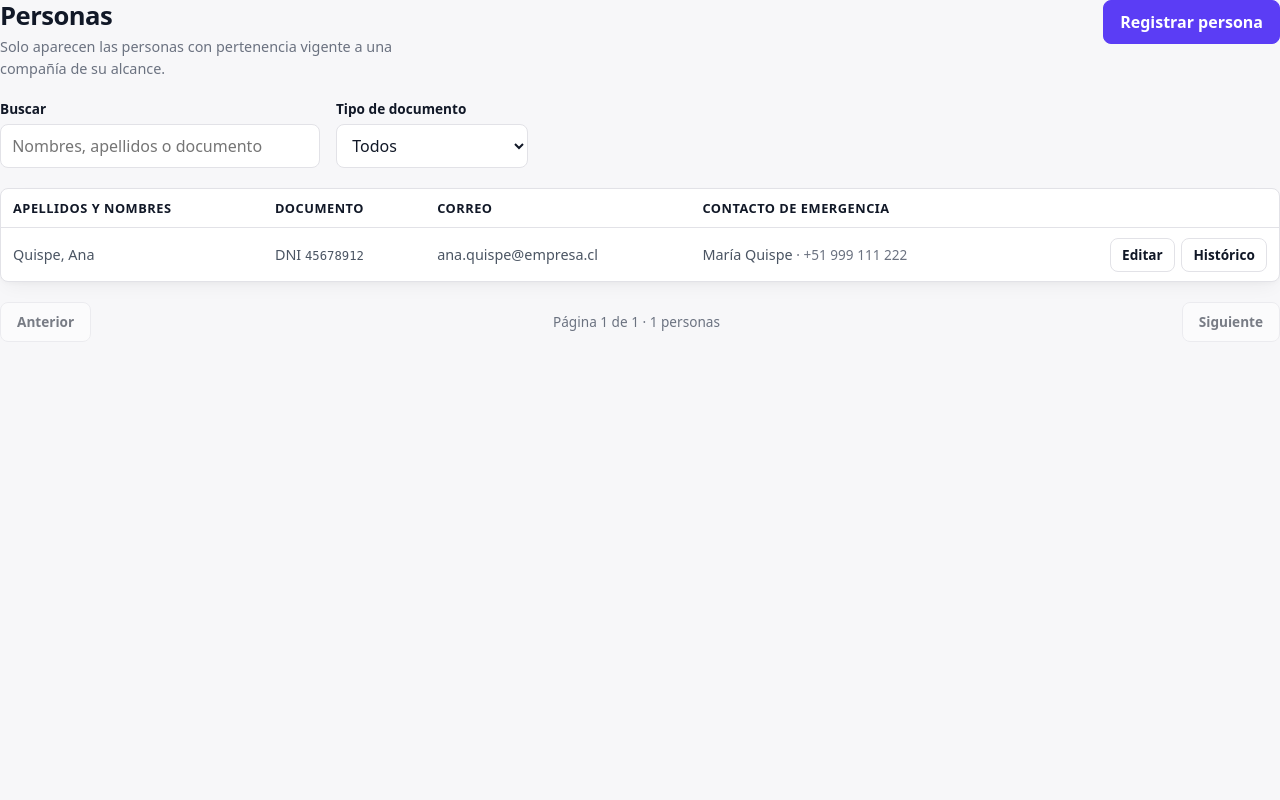
PersonasPage › precarga los datos al editar una persona
Click the button "Editar" at (1142, 255), box [1110, 238, 1175, 272]
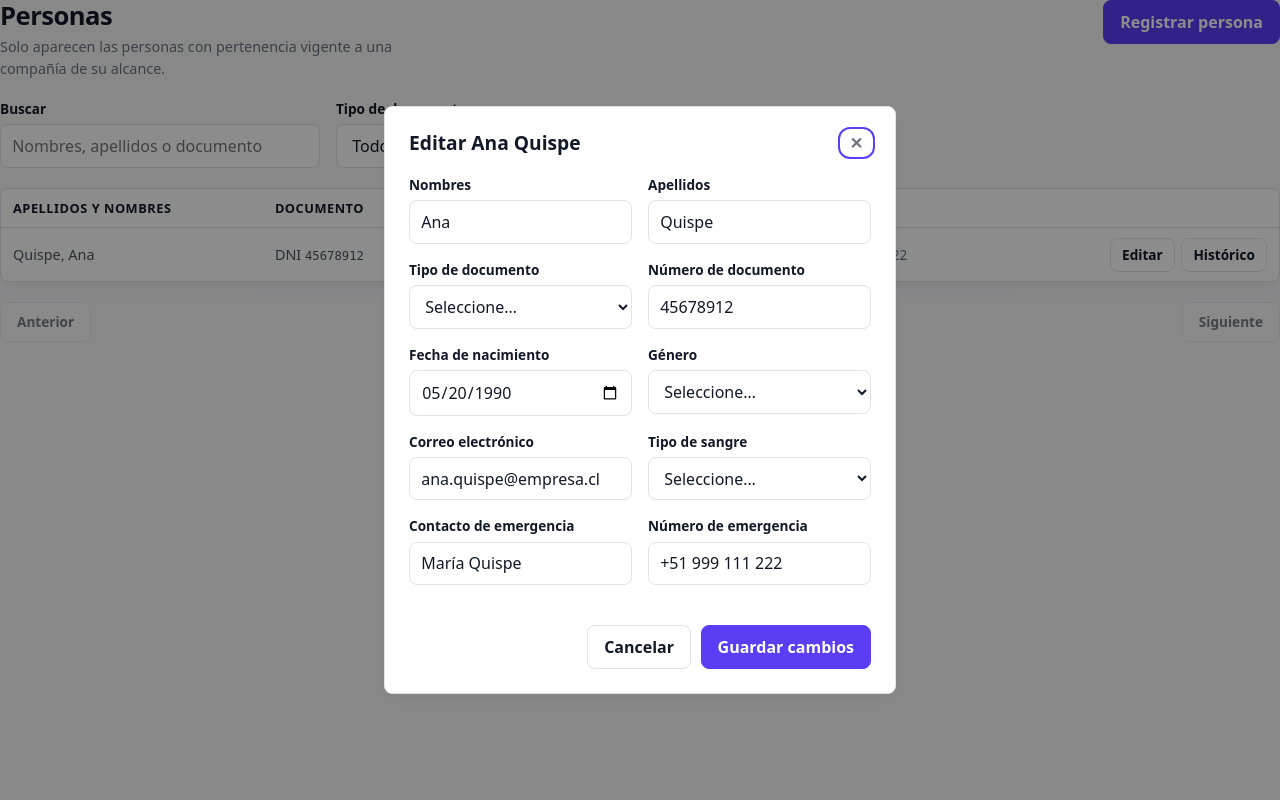
Now the field labelled "Nombres" holds "Ana", box [409, 200, 632, 244]
Now the field labelled "Número de documento" holds "45678912", box [648, 285, 871, 329]
Now the date field labelled "Fecha de nacimiento" holds "1990-05-20", box [409, 370, 632, 416]
